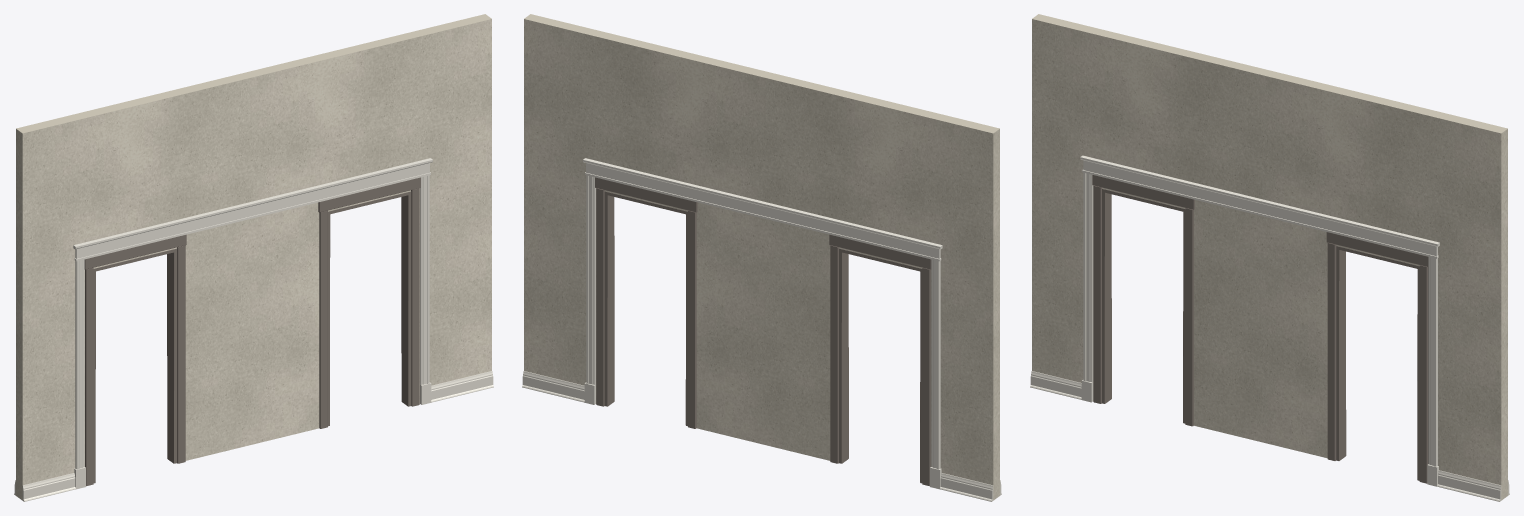
Rendered from pw_rest.glb.
3 renders of one model, left to right at view 1: azimuth 30°, elevation 25°; view 2: azimuth 150°, elevation 25°; view 3: azimuth 330°, elevation 25°, orthographic.
Visible parts, largest first — view 1: pw_rest_plaster, pw_rest_frame, molduras; view 2: pw_rest_plaster, pw_rest_frame, molduras; view 3: pw_rest_plaster, pw_rest_frame, molduras.
Boxes of the visible parts, x1,y1,x2,y2 form: pw_rest_plaster: [16, 14, 491, 500]; pw_rest_frame: [84, 177, 420, 486]; molduras: [14, 158, 493, 501]; pw_rest_plaster: [524, 14, 999, 500]; pw_rest_frame: [595, 177, 931, 486]; molduras: [522, 158, 1001, 501]; pw_rest_plaster: [1032, 14, 1507, 500]; pw_rest_frame: [1092, 175, 1428, 483]; molduras: [1030, 155, 1509, 501].
Bounding box in the file's own units: 4.81 × 3.6 × 0.204.
Materials: 3 (1 with a texture image).
